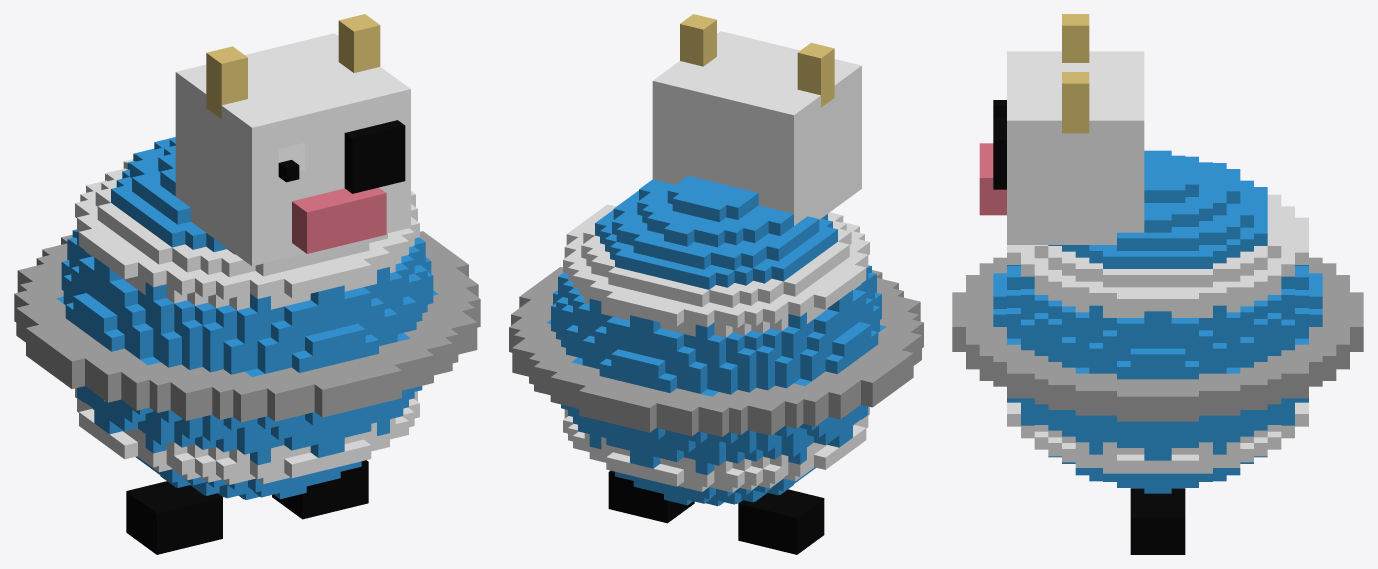
Rendered from la_vacca_saturno_saturnita.glb.
The picture shows the model from 3 angles, left to right: view 1: azimuth 30°, elevation 25°; view 2: azimuth 150°, elevation 25°; view 3: azimuth 270°, elevation 25°; orthographic projection. The views are drawn at different scales.
Parts seen in each view (by area): view 1: brainrot; view 2: brainrot; view 3: brainrot.
Boxes of the visible parts, bbox=[...] form: brainrot: bbox=[14, 14, 480, 554]; brainrot: bbox=[509, 14, 923, 554]; brainrot: bbox=[952, 14, 1363, 554].
Size of the model in its own units: 4.05 by 5 by 4.05.
Materials: 1 (1 with a texture image).
